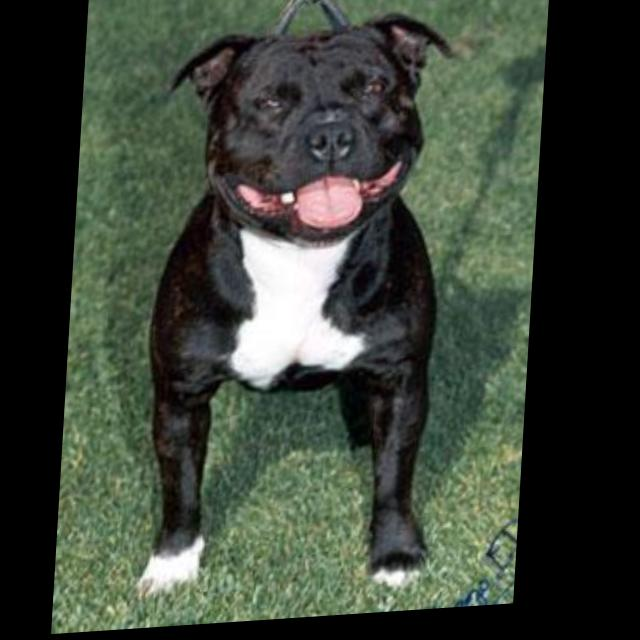staffford: (140, 1, 462, 610)
